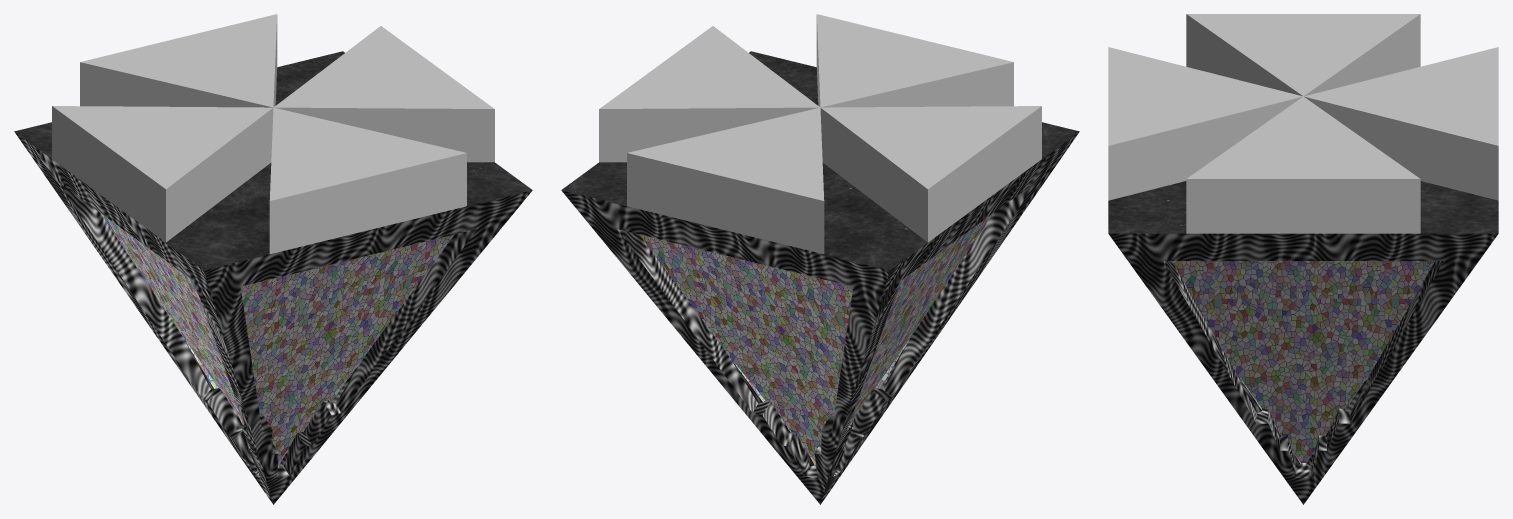
3 views of the same model, side by side, from view 1: azimuth 30°, elevation 25°; view 2: azimuth 150°, elevation 25°; view 3: azimuth 270°, elevation 25° (orthographic). The views are drawn at different scales.
Parts seen in each view (by area): view 1: lv1; view 2: lv1; view 3: lv1.
Part boxes in pixels (x1=…): lv1: x1=14, y1=14, x2=532, y2=504; lv1: x1=561, y1=14, x2=1079, y2=504; lv1: x1=1108, y1=14, x2=1498, y2=504.
Bounding box in the file's own units: 50 × 57.74 × 50.
